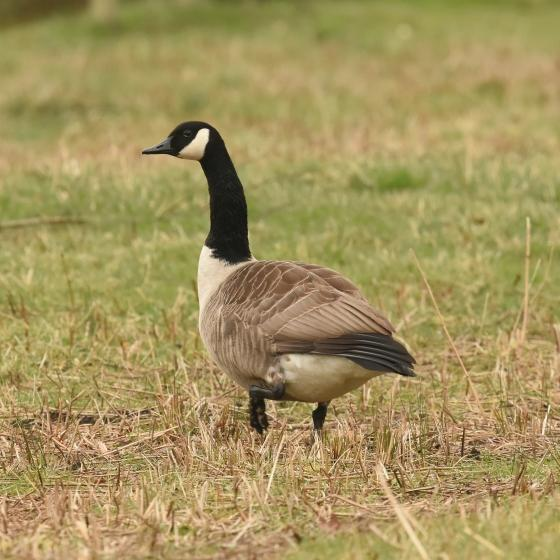Canadian-Goose: (146, 118, 416, 428)
